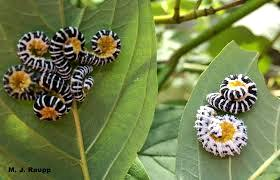Caterpillar: (195, 106, 247, 160), (203, 71, 262, 114), (65, 26, 126, 67), (14, 26, 55, 73), (34, 75, 74, 122), (50, 26, 85, 78), (3, 65, 37, 104), (70, 66, 95, 102)
